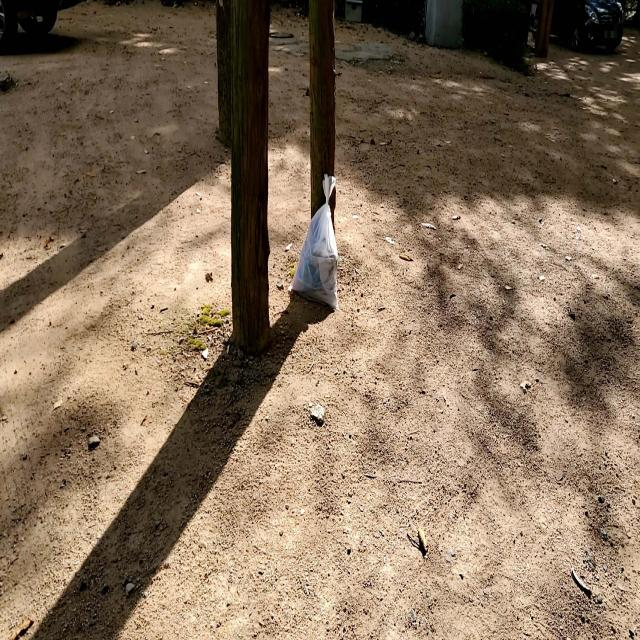garbage bag: (288, 171, 341, 313)
